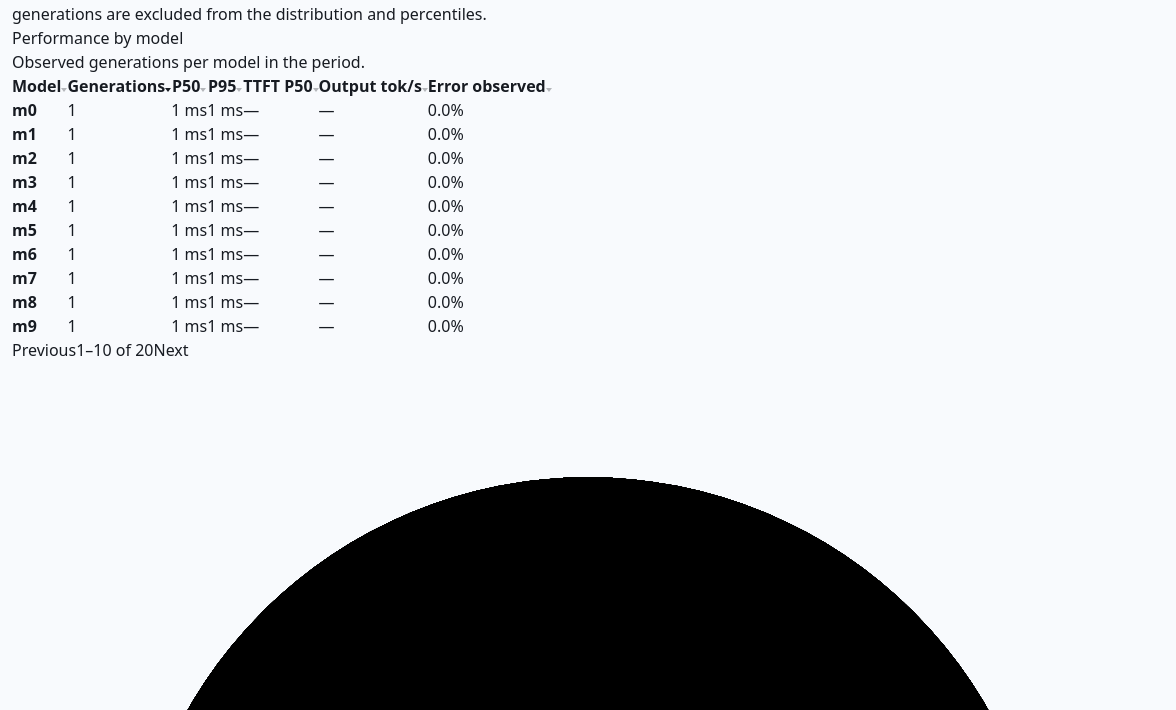
Test: paginates the model table
The image size is (1176, 710).
(page scrolled)
Expected: the text "m0" is shown, [12,99,37,121]
Expected: the text "m10" is not shown
Click the button "Next": (171, 350) [154,338,189,362]
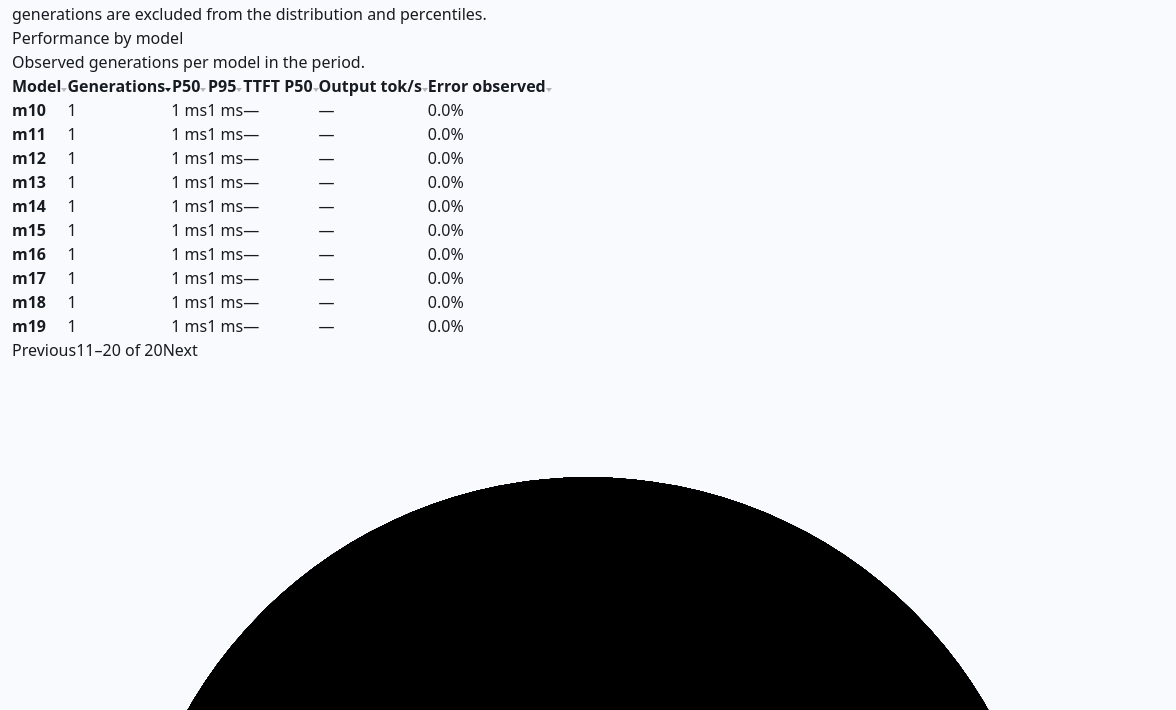
Expected: the text "m10" is shown, [12,99,46,121]
Expected: the text "m0" is gone
